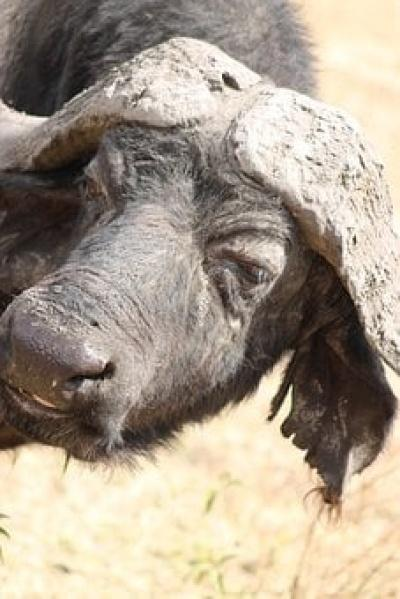buffalo: (0, 52, 398, 511)
